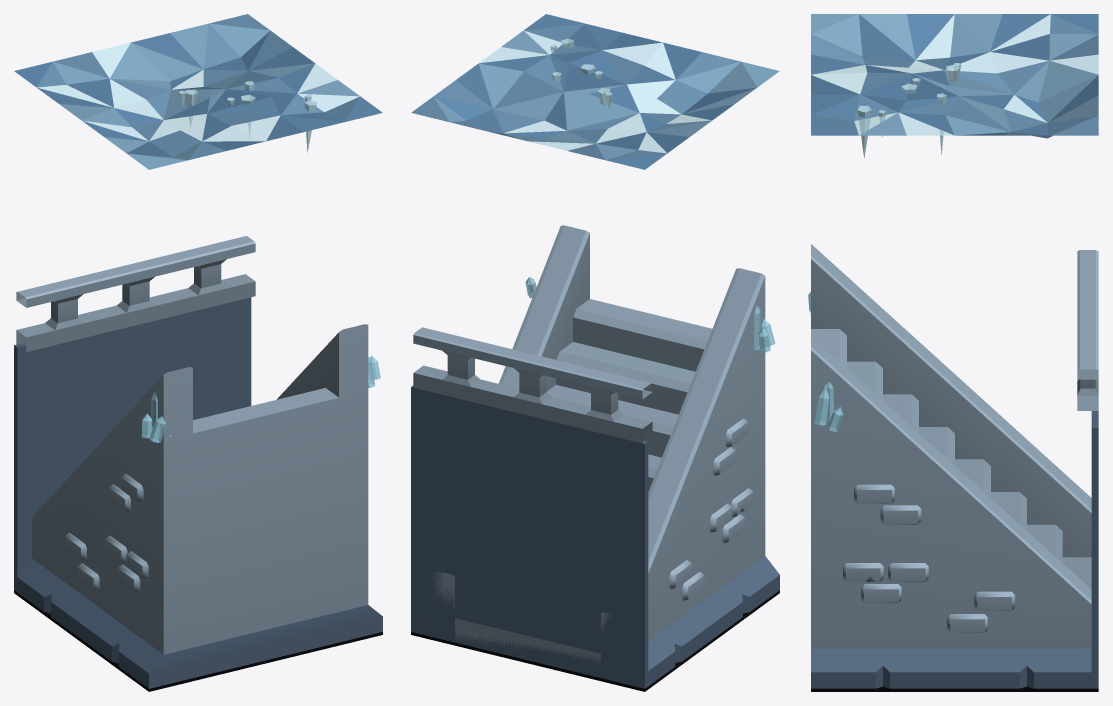
Rendered from stairs_down.fbx.
3 views of the same model, side by side, from view 1: azimuth 30°, elevation 25°; view 2: azimuth 150°, elevation 25°; view 3: azimuth 270°, elevation 25° (orthographic). The views are drawn at different scales.
Parts seen in each view (by area): view 1: stairs_down, Ceiling; view 2: stairs_down, Ceiling; view 3: stairs_down, Ceiling.
Boxes of the visible parts, bbox=[...] form: stairs_down: bbox=[14, 236, 382, 691]; Ceiling: bbox=[14, 14, 382, 169]; stairs_down: bbox=[411, 225, 779, 691]; Ceiling: bbox=[411, 14, 779, 169]; stairs_down: bbox=[808, 244, 1098, 691]; Ceiling: bbox=[811, 14, 1098, 157].
Size of the model in its own units: 4.12 by 8.58 by 4.04.
